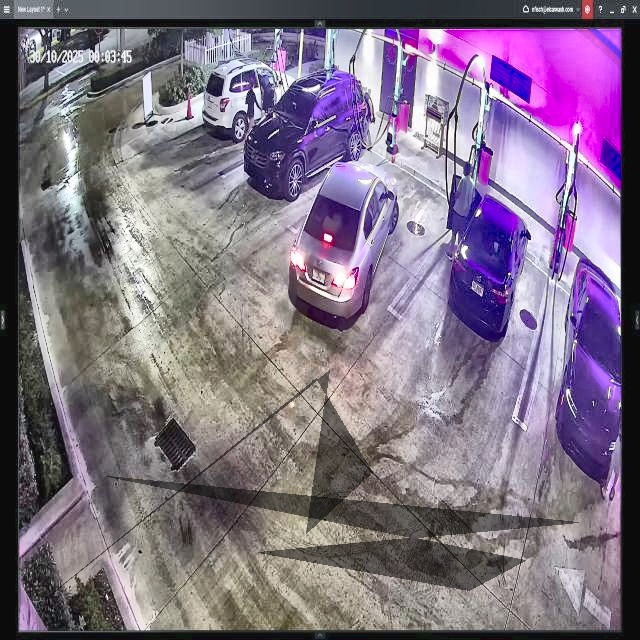Car: (288, 155, 397, 322), (245, 69, 368, 194), (447, 174, 532, 335)
